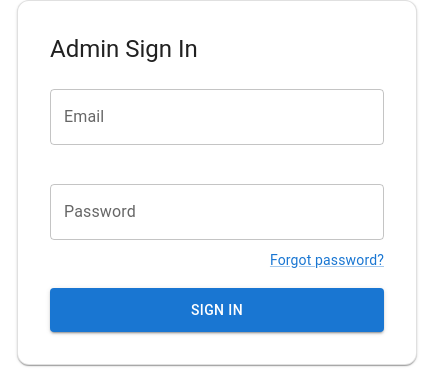
Test: LoginPage › prevents submit and shows field error when email is invalid
Type "bad-email" into the field labelled "Email".
click(217, 117); type("bad-email")  # box [50,89,384,145]
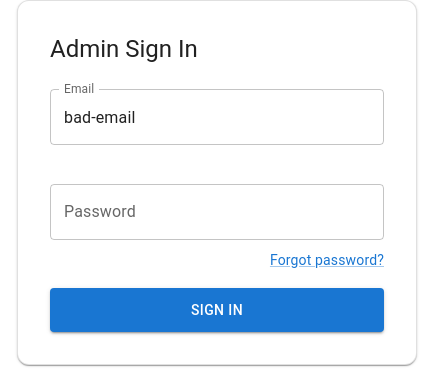
Submit the form labelled "Email Password Forgot password? Sign In", box [50,89,384,332]
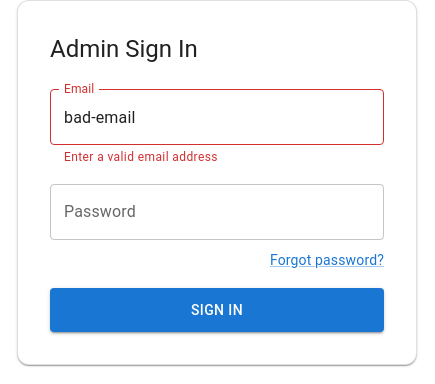
Result: the text "Enter a valid email address" is shown at [64,150,218,164]
